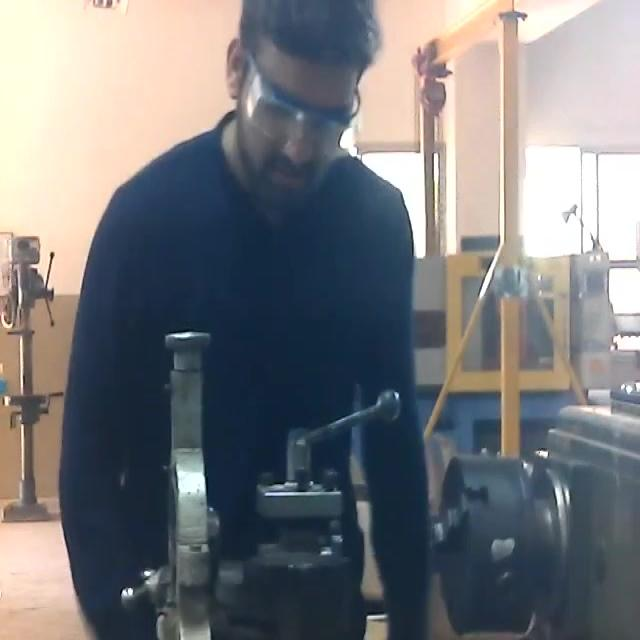googles: (244, 66, 358, 162)
